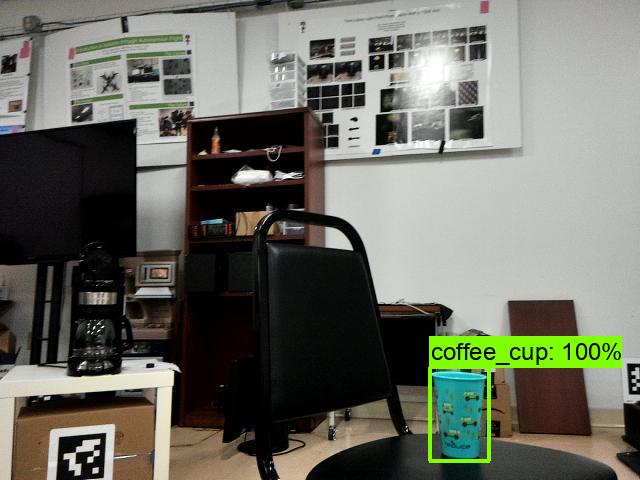coffee_cup: (429, 366, 489, 463)
